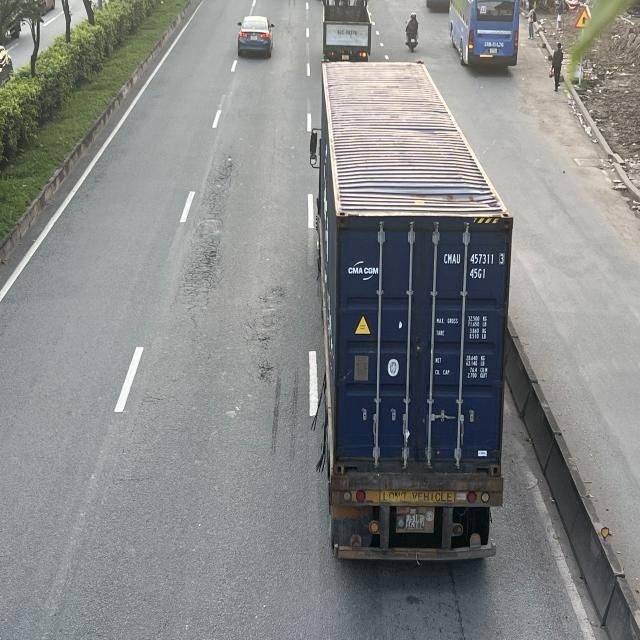car: (237, 16, 274, 58)
coach: (450, 0, 523, 69)
container: (310, 63, 516, 570)
truck: (324, 0, 372, 61)
